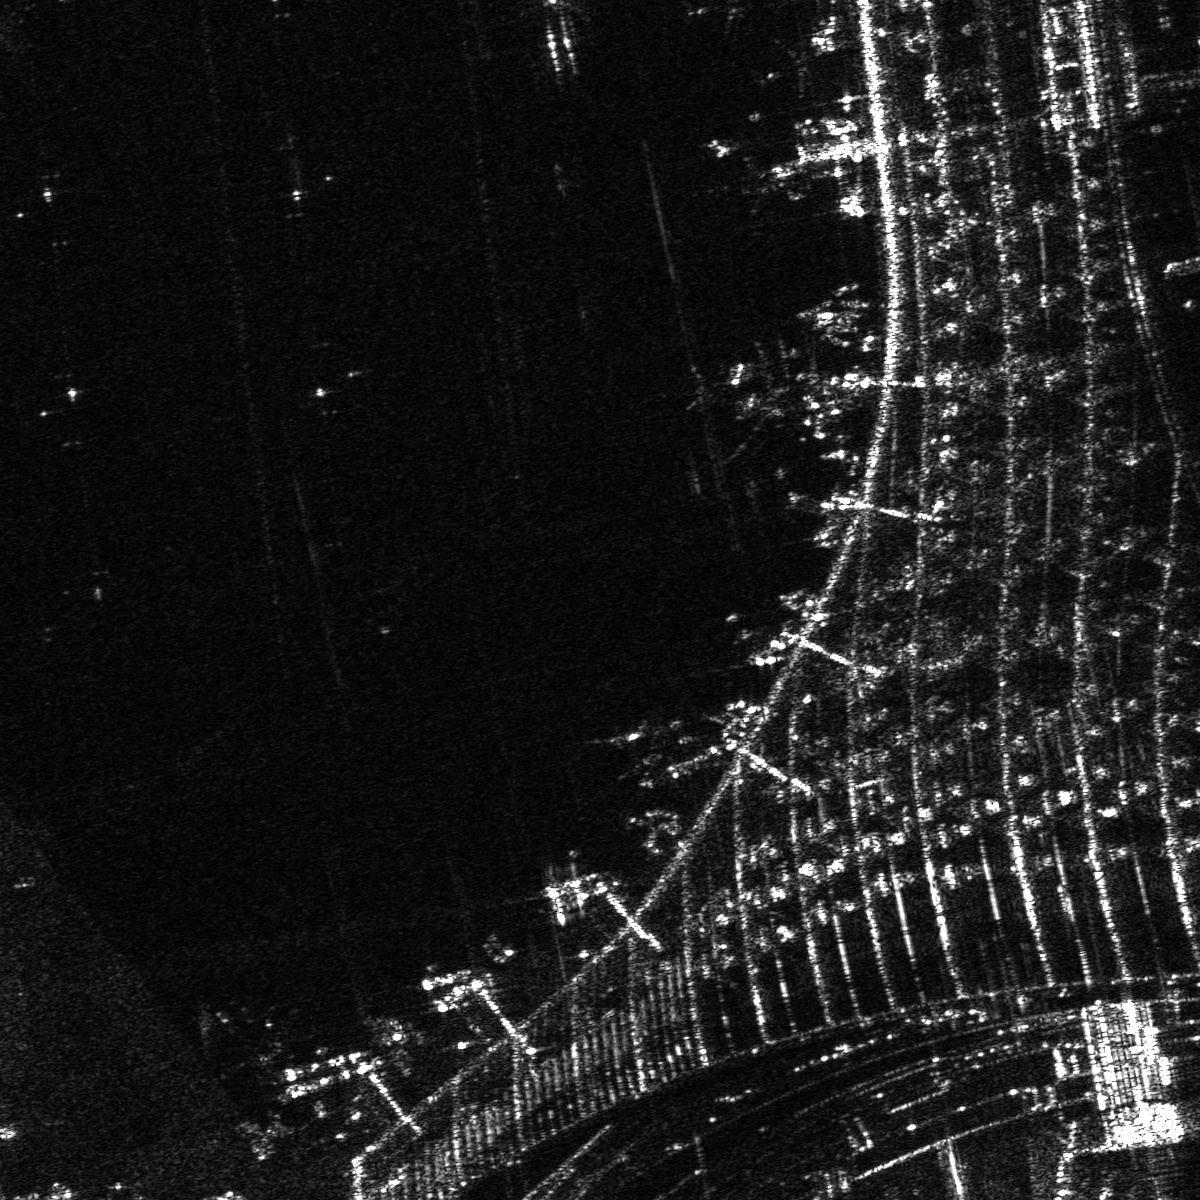A220: (607, 715, 659, 784)
Boeing787: (682, 332, 802, 464), (757, 35, 820, 99)
